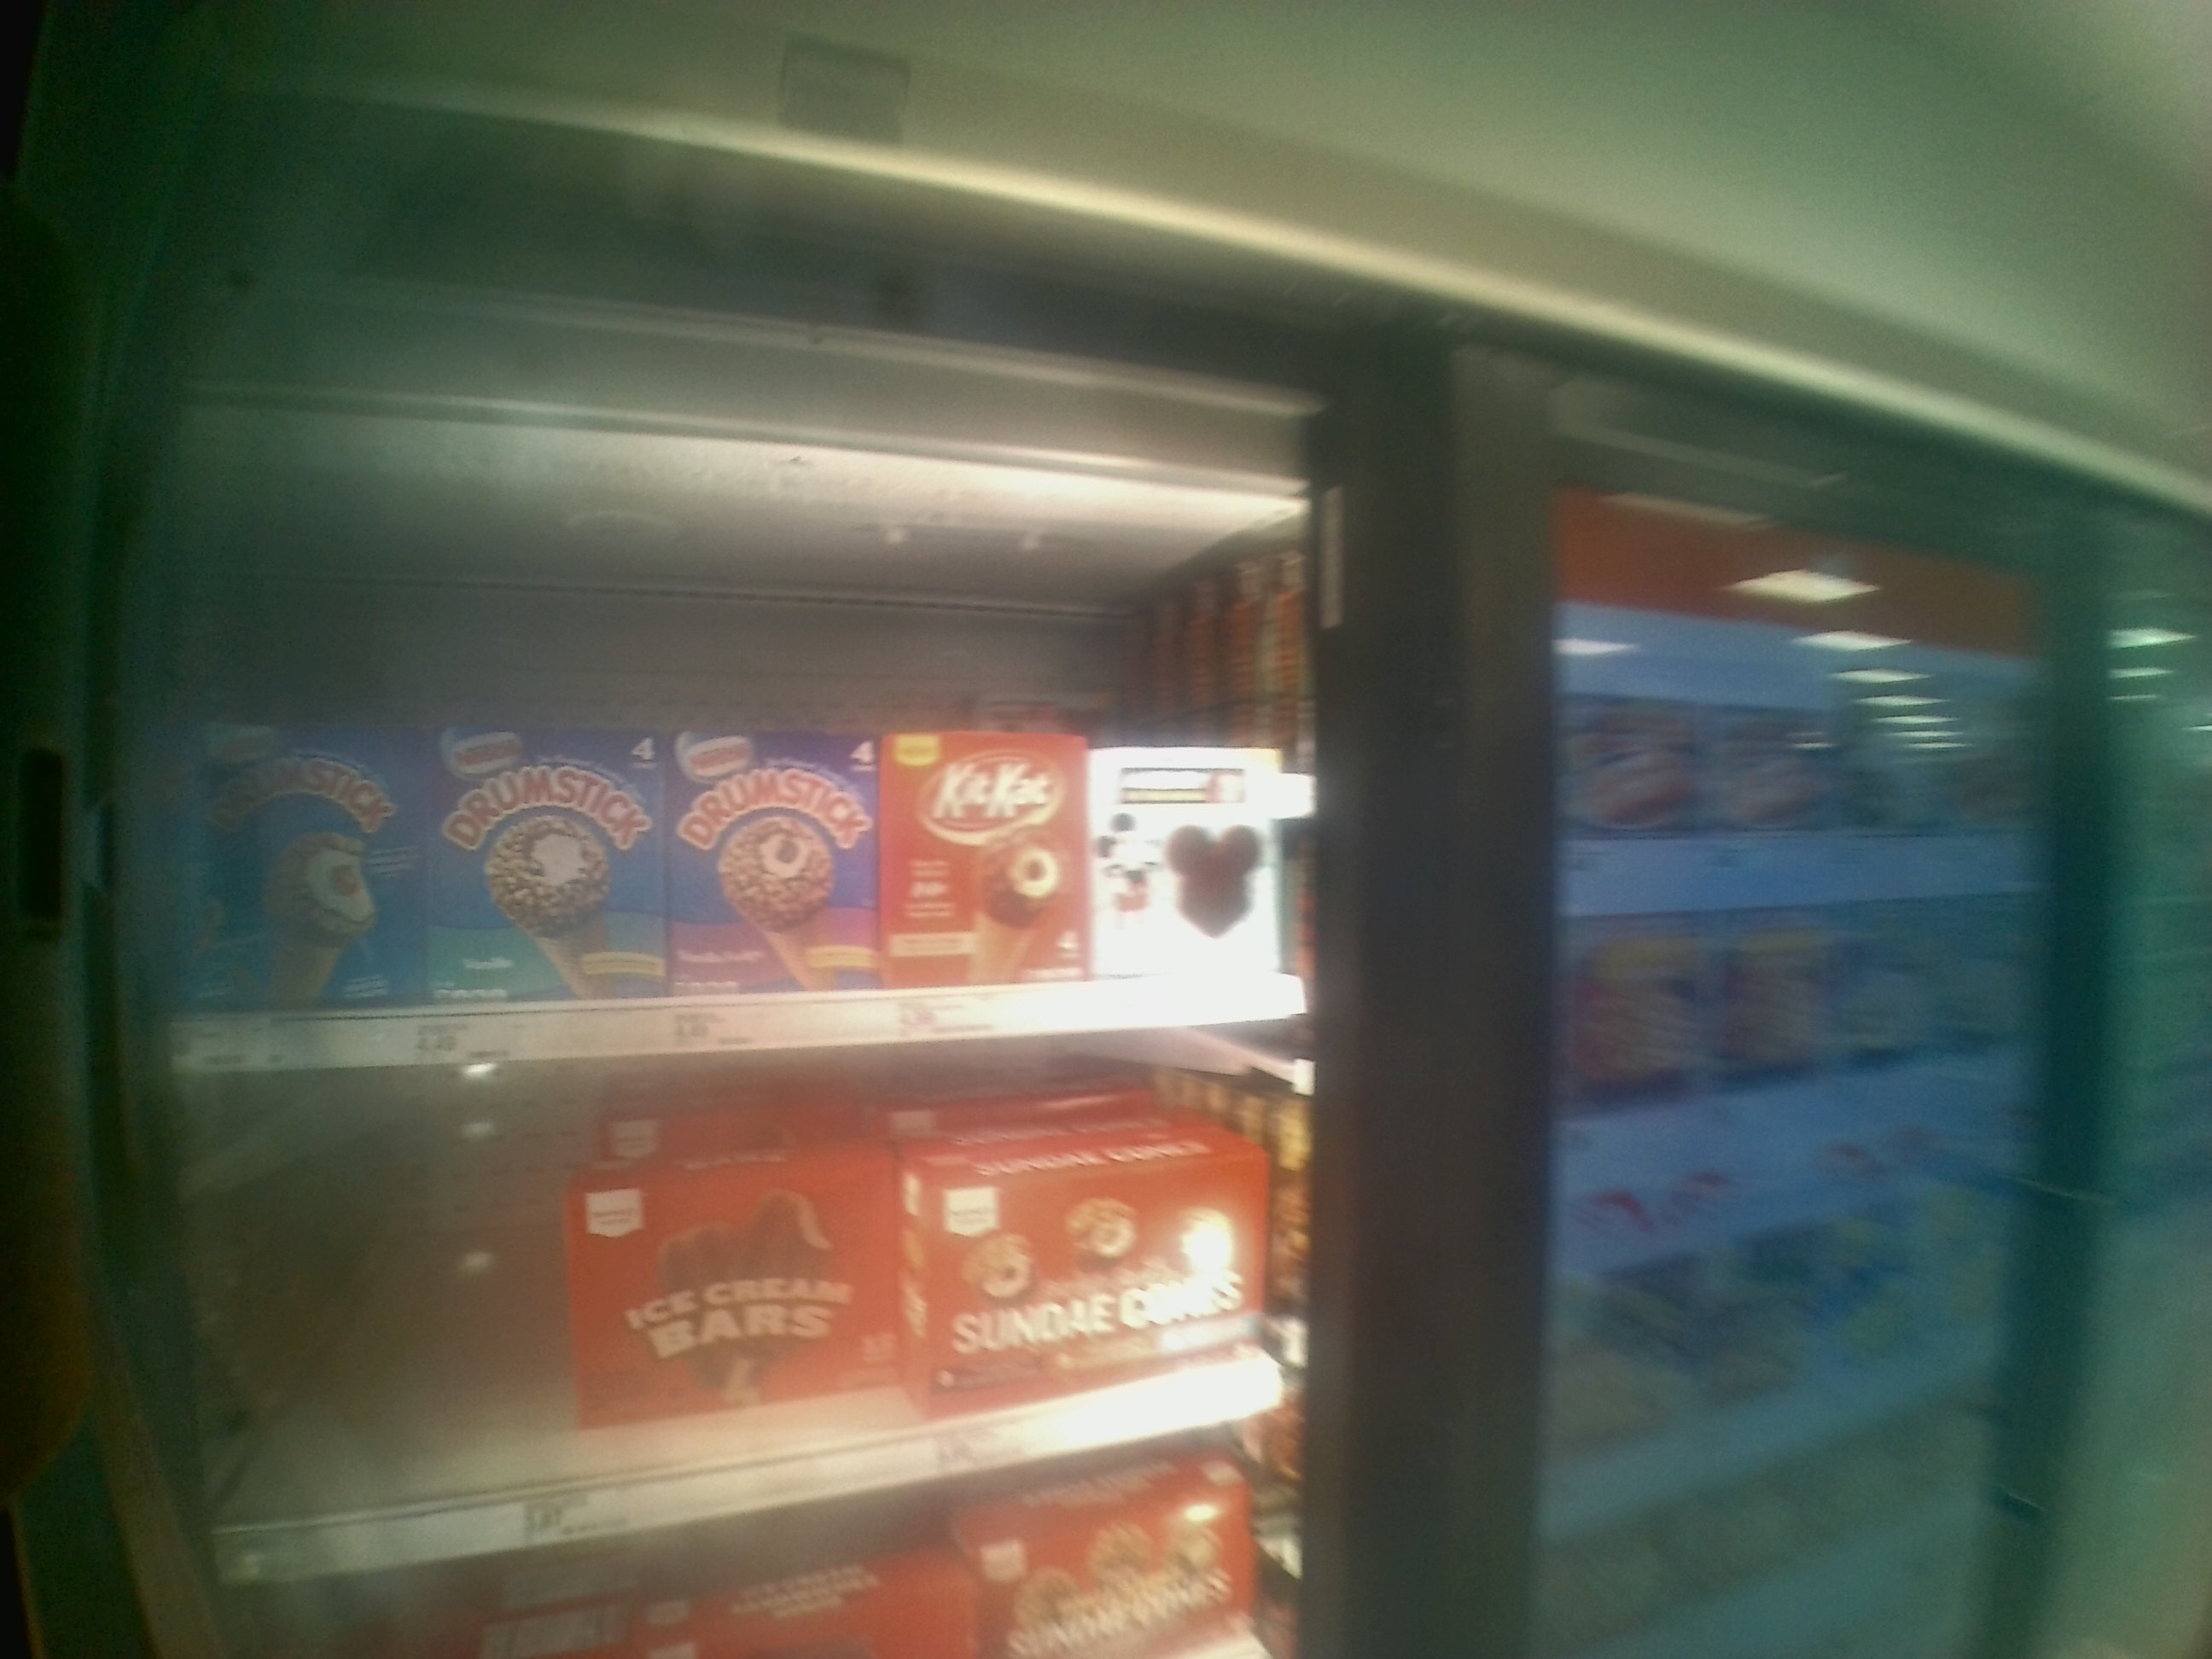frozen-food-shelf: (108, 507, 1383, 1080)
